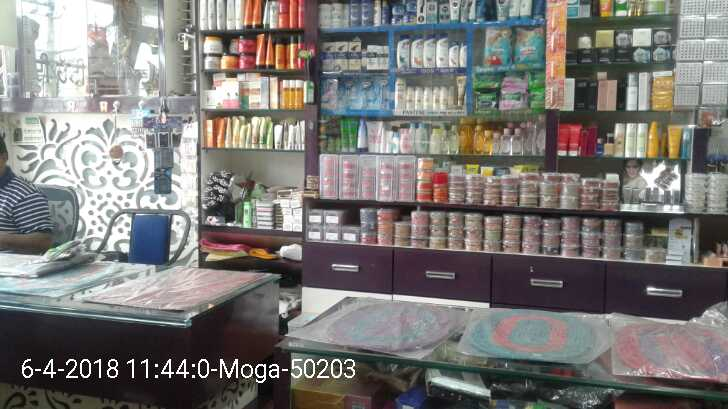venus: (338, 75, 357, 110), (358, 75, 374, 108), (374, 74, 389, 108), (322, 75, 336, 110)
